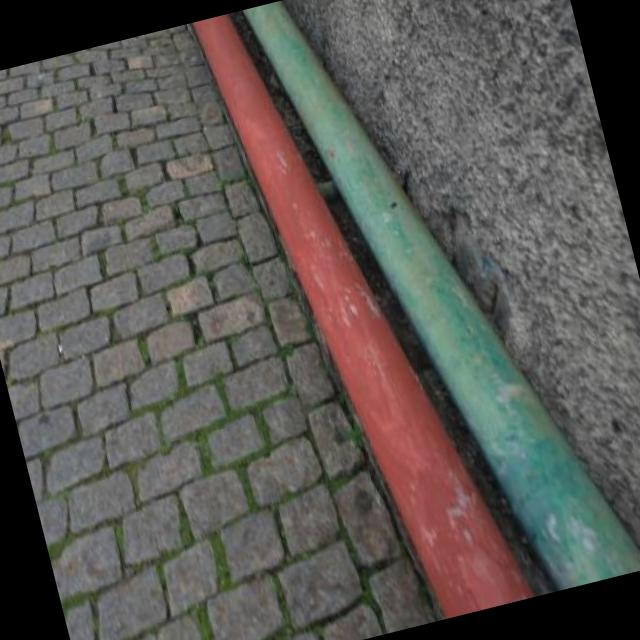gas: (243, 0, 640, 591), (193, 12, 530, 619)
